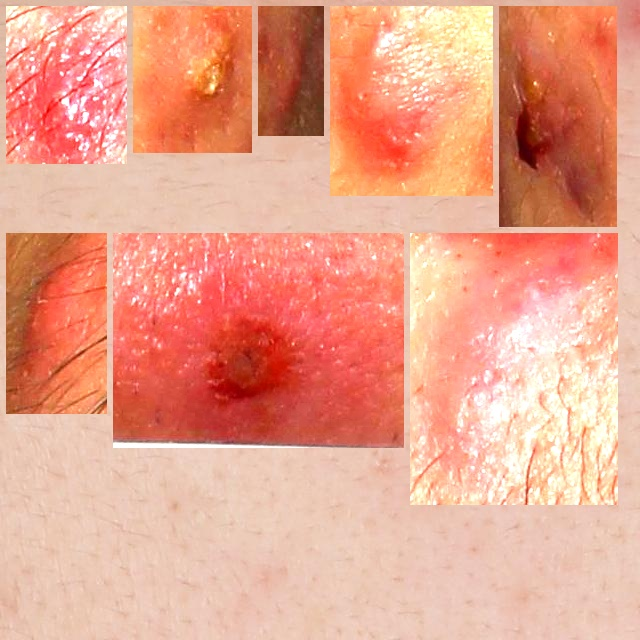nodule: (121, 241, 396, 440), (418, 241, 610, 497), (338, 14, 485, 188), (507, 14, 609, 219), (14, 14, 119, 156), (14, 241, 99, 406), (141, 14, 244, 145), (266, 14, 316, 128)
